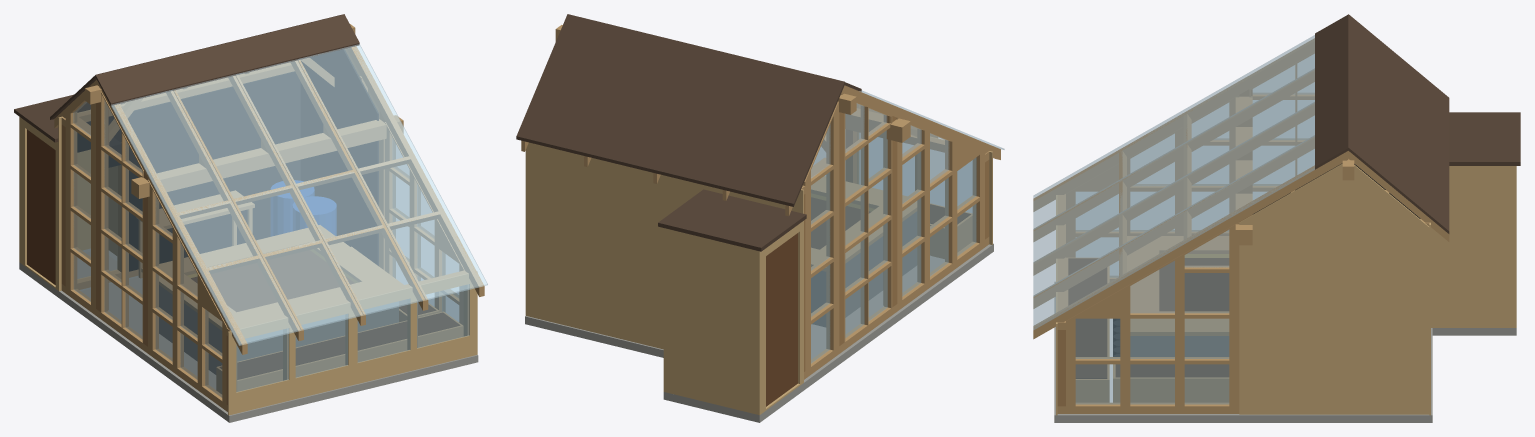
File: greenhouse.glb
3 views of the same model, side by side, from view 1: azimuth 30°, elevation 25°; view 2: azimuth 150°, elevation 25°; view 3: azimuth 270°, elevation 25° (orthographic). The views are drawn at different scales.
Parts seen in each view (by area): view 1: poly, timber, glass, black, ply, shingle, soil, post, curb, stone, door, barrel (+1 smaller); view 2: ply, shingle, timber, glass, door, curb, post, poly, stone, paver, soil; view 3: ply, timber, poly, shingle, glass, soil, curb, stone, post, black.
Part boxes in pixels (bbox=[...]): poly: bbox=[73, 44, 487, 345]; timber: bbox=[54, 24, 484, 411]; glass: bbox=[73, 130, 469, 397]; black: bbox=[77, 49, 378, 271]; ply: bbox=[19, 49, 477, 415]; shingle: bbox=[14, 14, 359, 142]; soil: bbox=[191, 250, 460, 379]; post: bbox=[61, 102, 469, 404]; curb: bbox=[19, 248, 478, 422]; stone: bbox=[159, 285, 398, 374]; door: bbox=[27, 129, 55, 284]; barrel: bbox=[271, 180, 336, 236]; ply: bbox=[525, 132, 992, 415]; shingle: bbox=[516, 14, 861, 251]; timber: bbox=[521, 25, 1000, 379]; glass: bbox=[811, 130, 976, 363]; door: bbox=[766, 233, 797, 406]; curb: bbox=[525, 243, 993, 422]; post: bbox=[804, 112, 989, 371]; poly: bbox=[811, 90, 1004, 183]; stone: bbox=[811, 211, 917, 327]; paver: bbox=[811, 256, 944, 359]; soil: bbox=[811, 197, 970, 249]; ply: bbox=[1056, 163, 1516, 415]; timber: bbox=[1033, 38, 1449, 413]; poly: bbox=[1033, 35, 1314, 329]; shingle: bbox=[1315, 14, 1520, 233]; glass: bbox=[1075, 100, 1314, 404]; soil: bbox=[1068, 258, 1229, 378]; curb: bbox=[1054, 282, 1516, 422]; stone: bbox=[1130, 336, 1229, 356]; post: bbox=[1057, 89, 1252, 406]; black: bbox=[1113, 163, 1420, 356].
Size of the model in its own units: 4 by 3.61 by 5.8.
